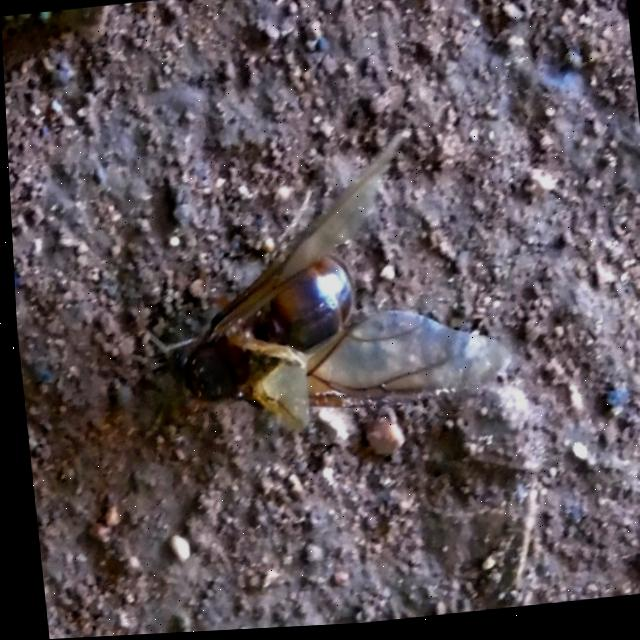Alive-Male-Alate: (94, 122, 515, 454)
